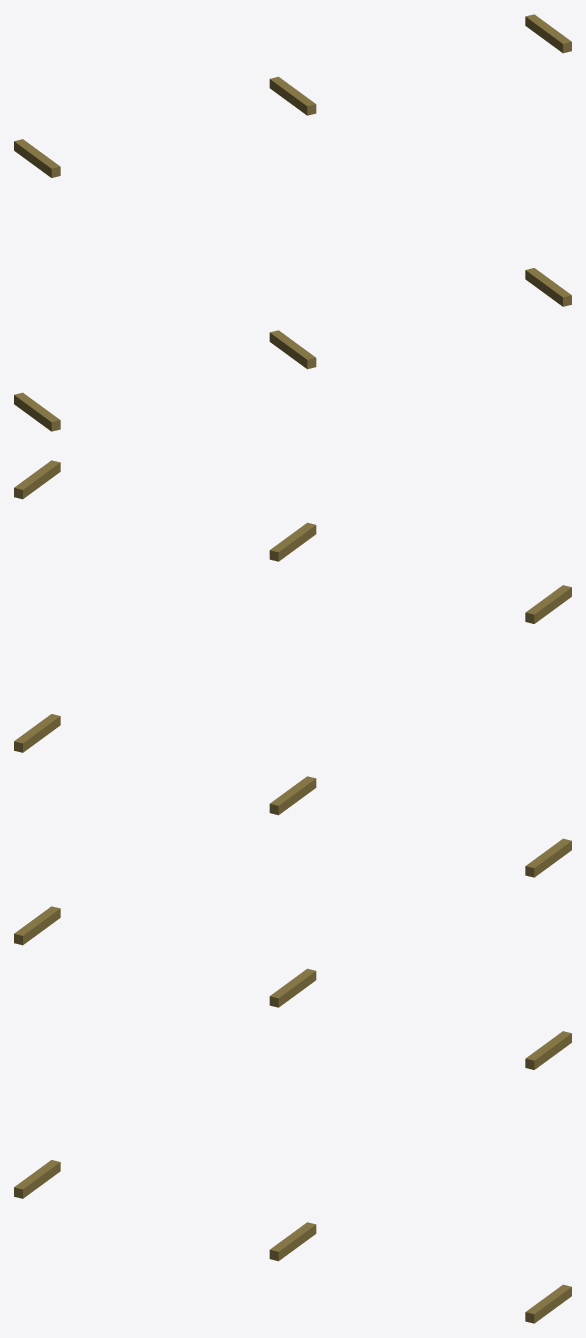
The model's file is MeshTvStand_206_0_GeomSubset_1.obj.
3 views of the same model, one above another, from view 1: azimuth 30°, elevation 25°; view 2: azimuth 150°, elevation 25°; view 3: azimuth 330°, elevation 25° (orthographic).
Visible parts, largest first — view 1: MeshTvStand_206_0_GeomSubset_1; view 2: MeshTvStand_206_0_GeomSubset_1; view 3: MeshTvStand_206_0_GeomSubset_1.
Part boxes in pixels (x1,y1,x2,y2): MeshTvStand_206_0_GeomSubset_1: (14, 14, 571, 431); MeshTvStand_206_0_GeomSubset_1: (14, 460, 571, 877); MeshTvStand_206_0_GeomSubset_1: (14, 906, 571, 1323).
Size of the model in its own units: 1.16 by 0.56 by 0.145.
